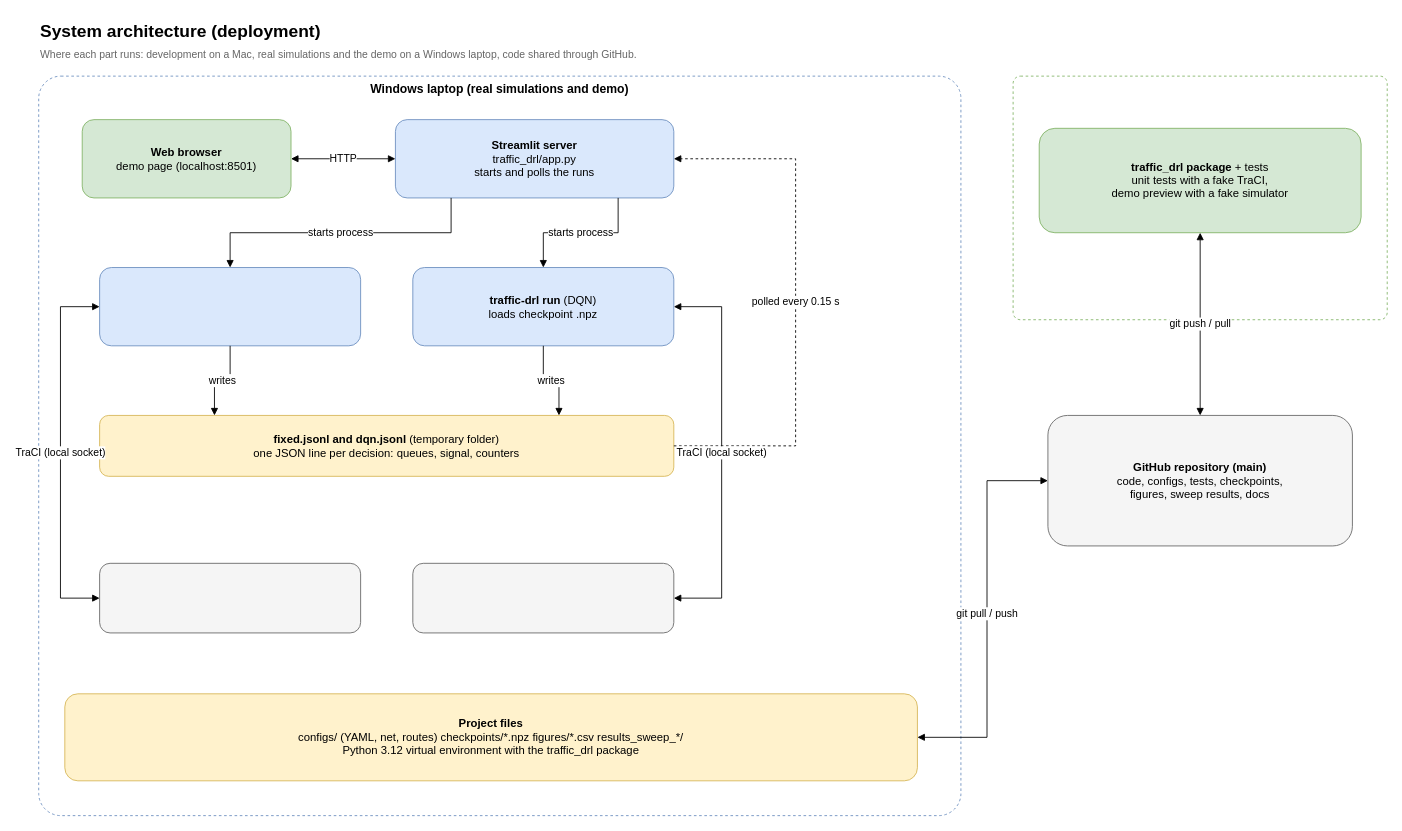
Image size: 1402x831. Some labels were removed from this diagram. Here are the shapes that lost their labels. From the top down, the box of each, then its label:
(1012, 75, 1387, 320): Mac (development)
(99, 267, 361, 346): traffic-drl run (fixed-time) one process per controller
(99, 562, 361, 633): SUMO instance (eclipse-sumo) headless, fixed-time run
(412, 562, 674, 633): SUMO instance (eclipse-sumo) headless, DQN run
